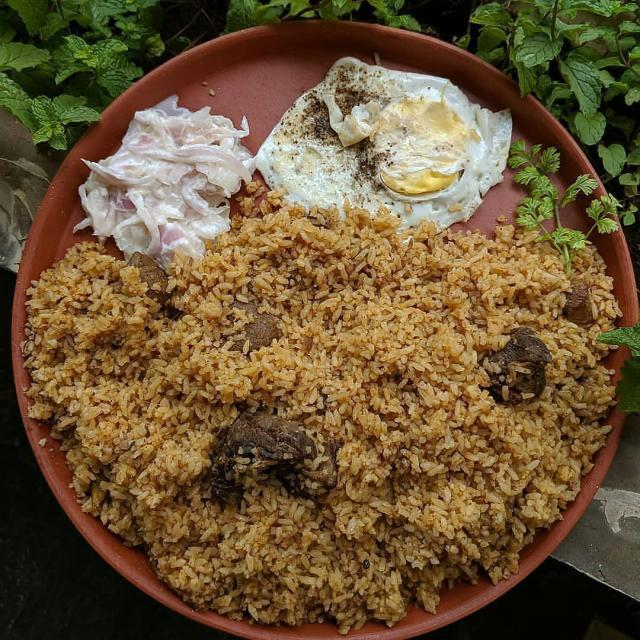biryani: (32, 175, 640, 640)
